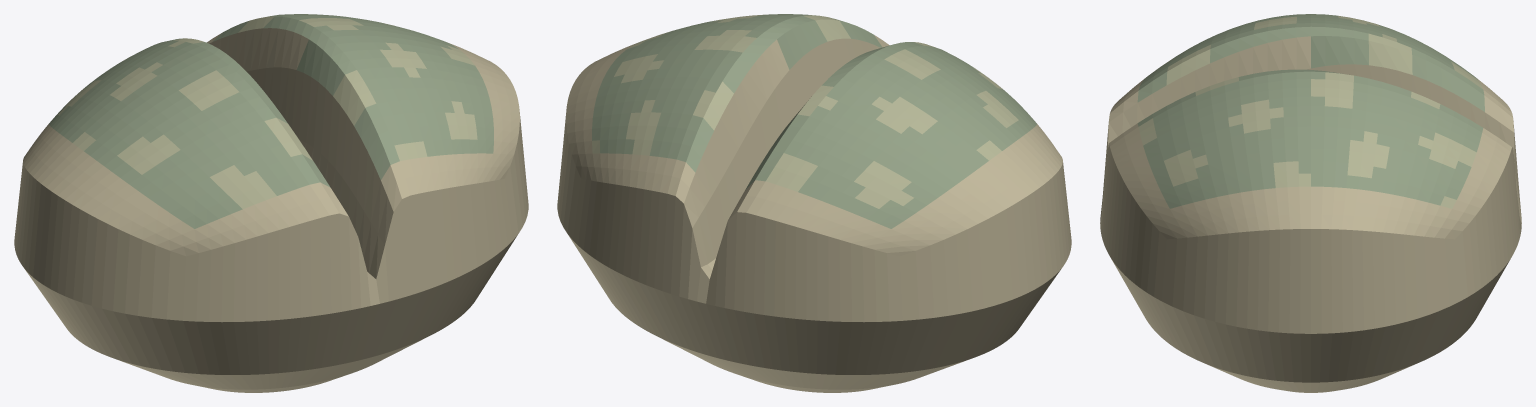
The picture shows the model from 3 angles, left to right: view 1: azimuth 30°, elevation 25°; view 2: azimuth 150°, elevation 25°; view 3: azimuth 270°, elevation 25°; orthographic projection. The views are drawn at different scales.
Parts seen in each view (by area): view 1: WholeFusedFleshyLeafBodyWithBlindTopFissure; view 2: WholeFusedFleshyLeafBodyWithBlindTopFissure; view 3: WholeFusedFleshyLeafBodyWithBlindTopFissure.
Boxes of the visible parts, x1,y1,x2,y2 form: WholeFusedFleshyLeafBodyWithBlindTopFissure: (14, 14, 528, 392); WholeFusedFleshyLeafBodyWithBlindTopFissure: (557, 14, 1071, 392); WholeFusedFleshyLeafBodyWithBlindTopFissure: (1100, 14, 1521, 392).
Size of the model in its own units: 0.1594 by 0.1019 by 0.1283.
